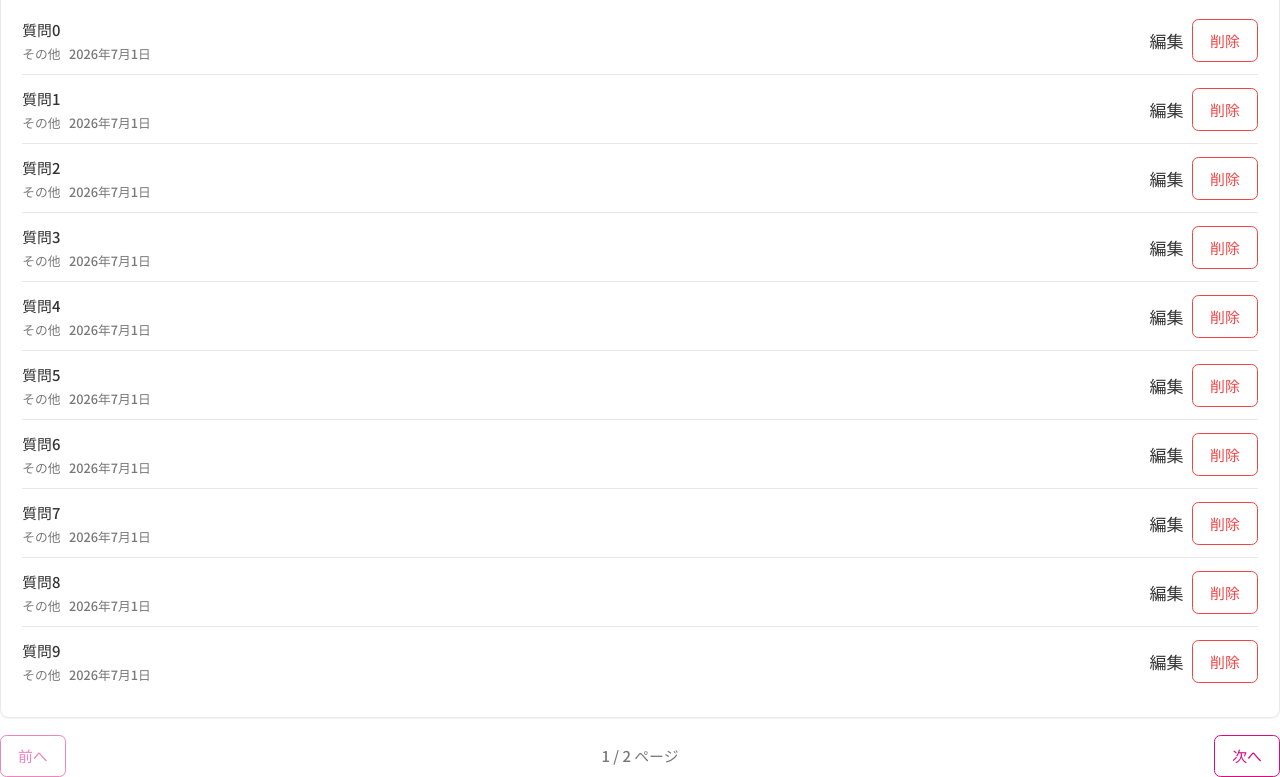
Scenario: FaqManagementListClient › ページ切り替えで該当ページのみを表示し、登録日降順の入力順序を維持する
(page scrolled)
Expected: the text "質問0" is shown, [22,19,60,40]
Expected: the text "質問11" is not shown
Step 1. Click the button "次へ" → (1247, 756), box [1214,734,1279,776]
(page scrolled)
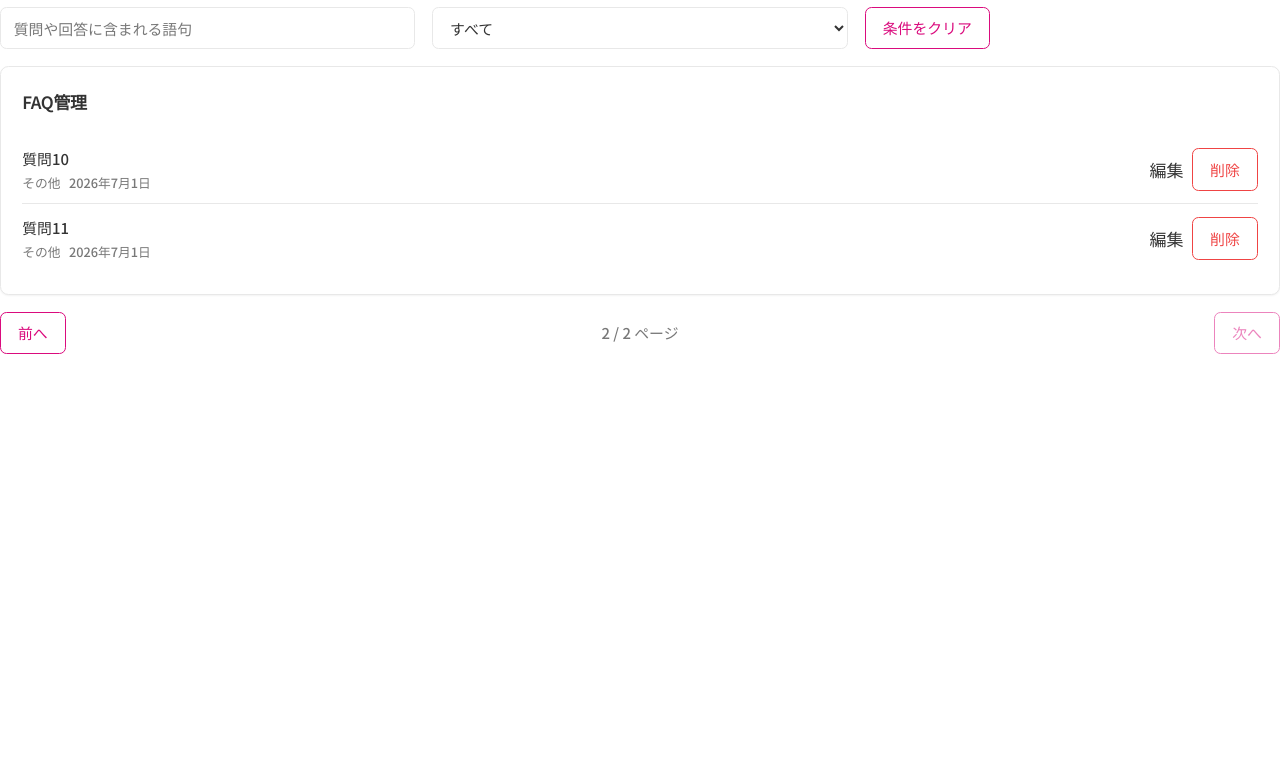
Expected: the text "質問0" is gone
Expected: the text "質問11" is shown, [22,217,69,238]
Expected: the text "2 / 2 ページ" is shown, [602,322,678,343]
